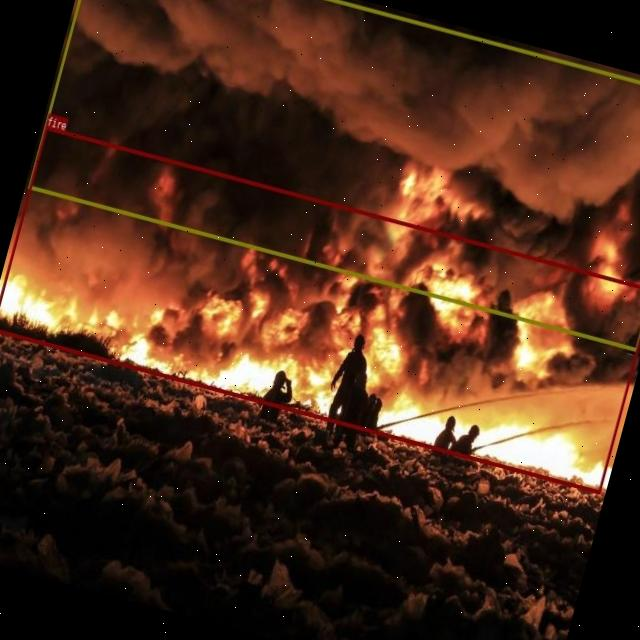fire: (0, 125, 640, 493)
smoke: (27, 0, 640, 351)
